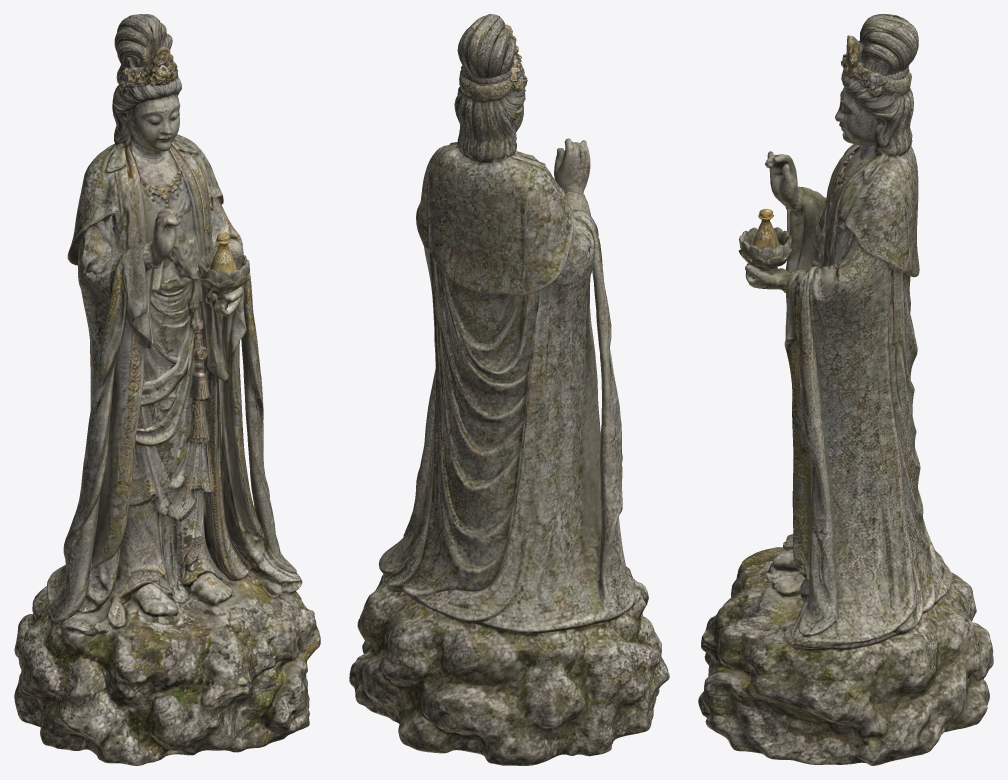
The model's file is guardian_b.glb.
The picture shows the model from 3 angles, left to right: view 1: azimuth 30°, elevation 25°; view 2: azimuth 150°, elevation 25°; view 3: azimuth 270°, elevation 25°; orthographic projection. The views are drawn at different scales.
Visible parts, largest first — view 1: clean; view 2: clean; view 3: clean.
Part boxes in pixels (left/top/right/bottom): clean: left=14, top=14, right=320, bottom=765; clean: left=349, top=14, right=669, bottom=765; clean: left=698, top=14, right=993, bottom=765.
Size of the model in its own units: 62.13 by 150 by 58.31.
1 material, 1 textured.
